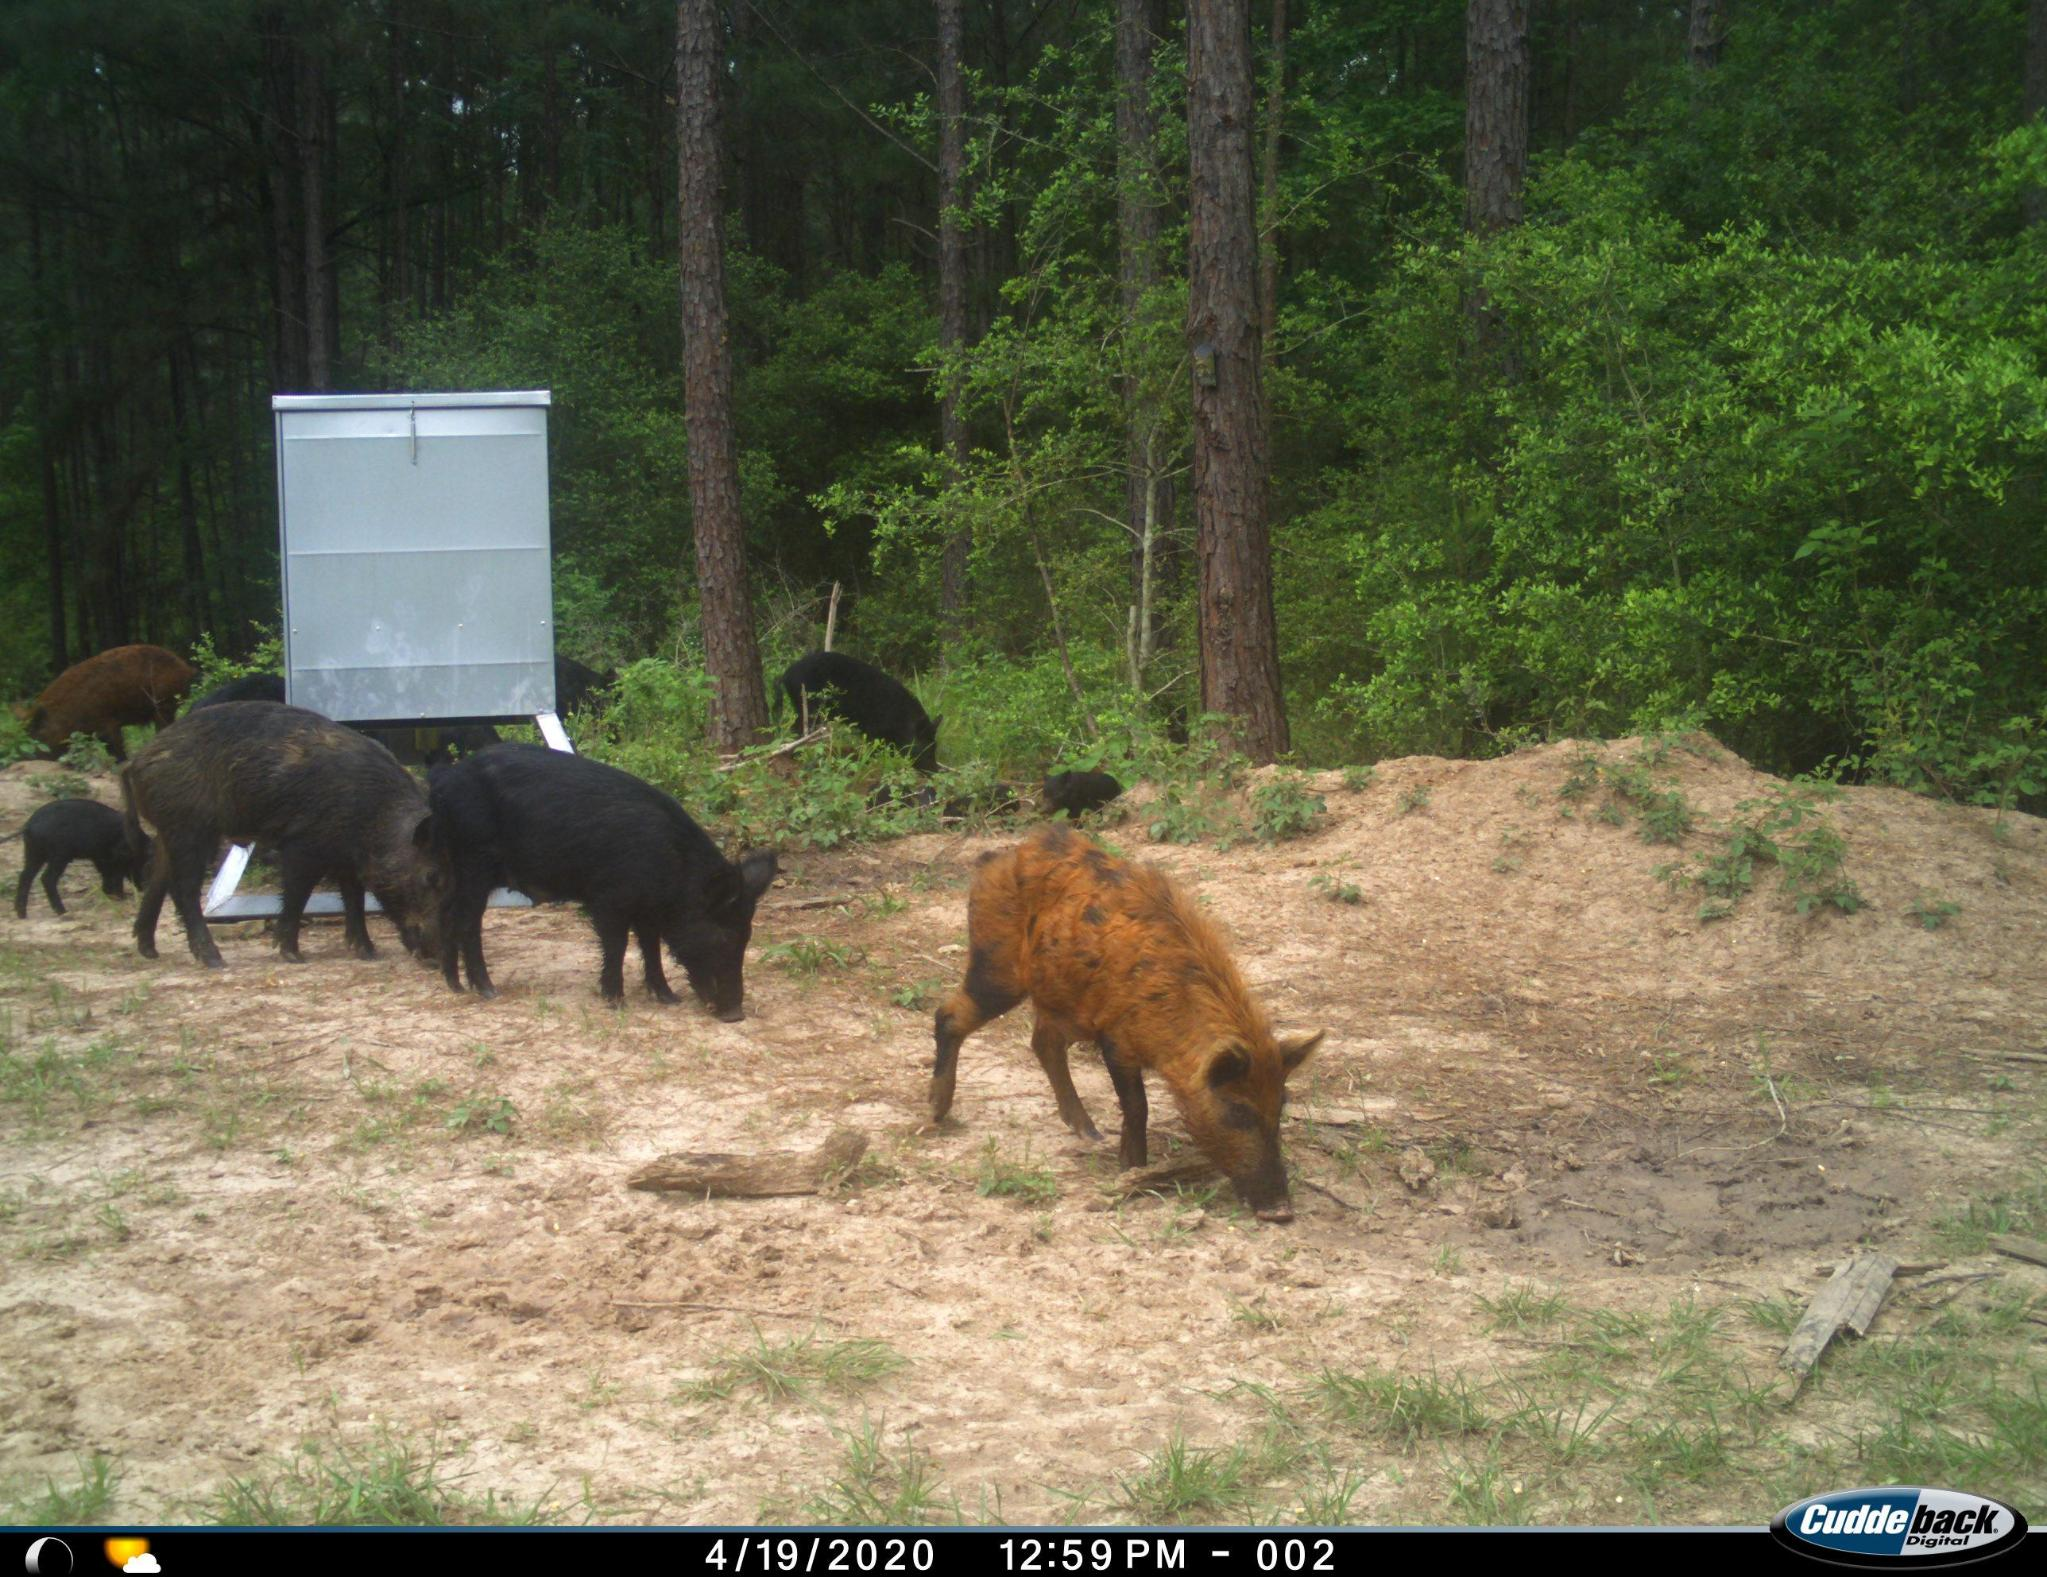Hog: (918, 815, 1307, 1237), (429, 737, 783, 1032), (123, 694, 464, 994), (768, 648, 951, 793), (20, 626, 202, 760), (3, 788, 142, 919), (1033, 754, 1133, 827)
